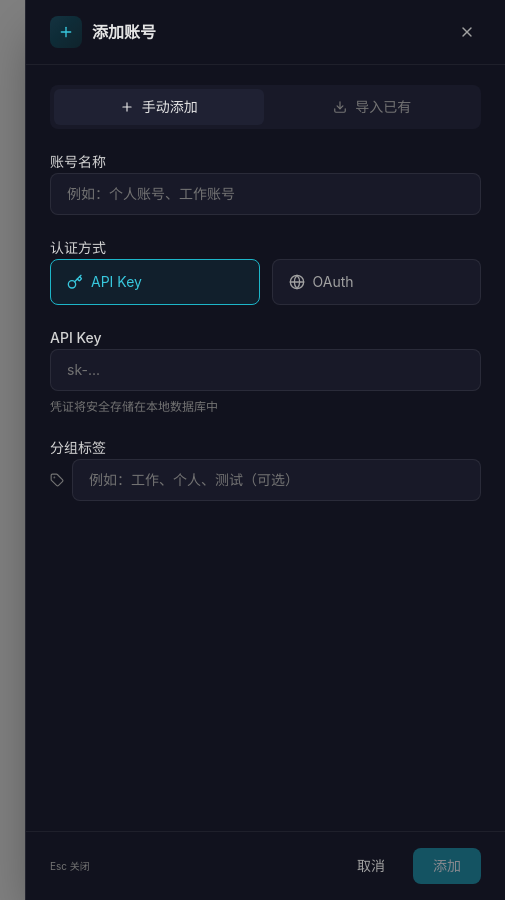
Test: AddAccountDialog › can switch between tabs
Click the button "导入已有". click: (372, 107)
box: top-left (268, 89), bottom-right (477, 125)
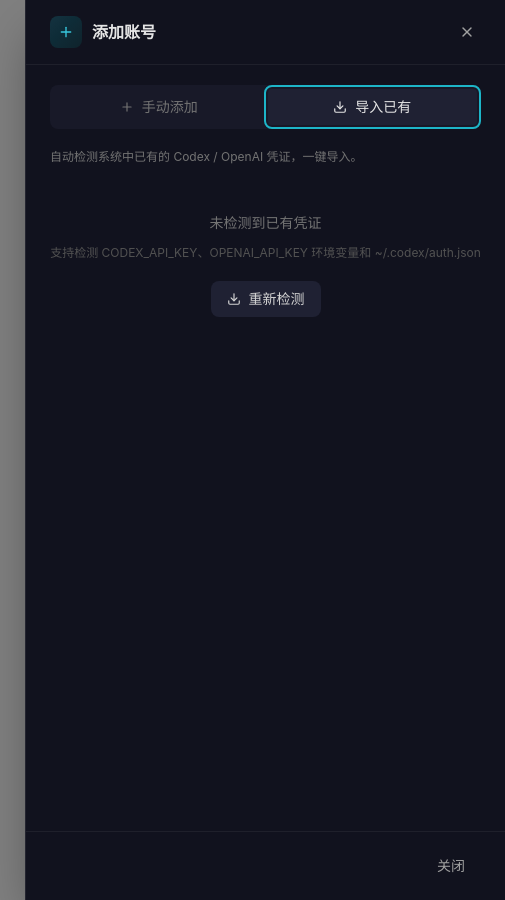
Check: the text "自动检测系统中已有的 Codex / OpenAI 凭证，一键导入。" is shown, box top-left (50, 149), bottom-right (362, 164)
